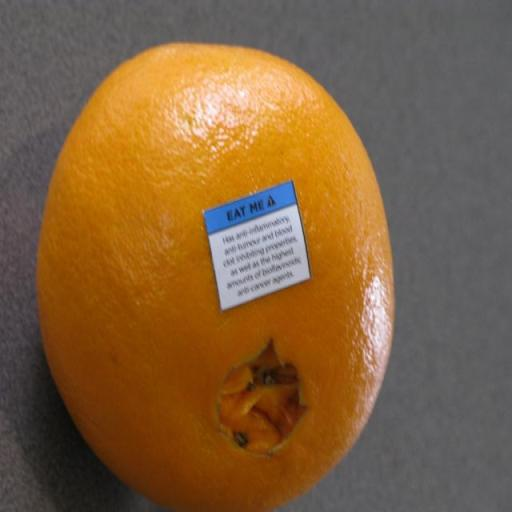fruit: (38, 44, 393, 511)
